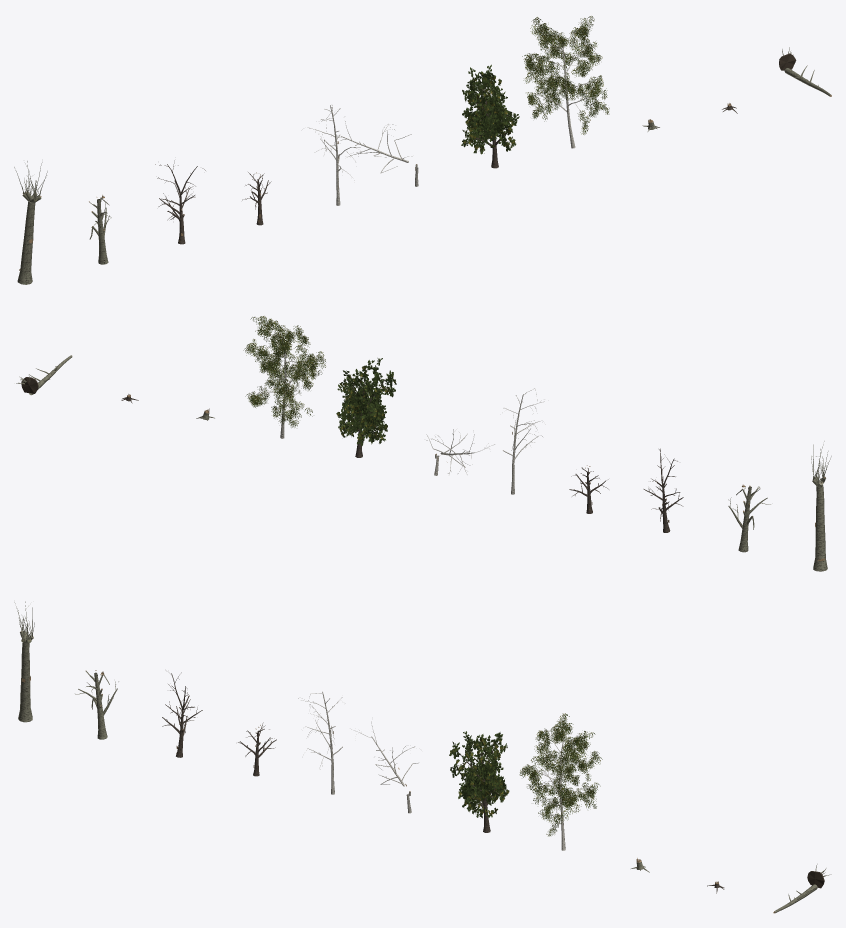
File: trees.glb
3 renders of one model, top to bottom at view 1: azimuth 30°, elevation 25°; view 2: azimuth 150°, elevation 25°; view 3: azimuth 330°, elevation 25°, orthographic.
Parts seen in each view (by area): view 1: leafy_summer_birch, leafy_summer_chestnut, tree_poplar_stripped, tree_chestnut_stripped, tree_poplar_broken, fallen_trunk, tree_birch_stripped, tree_birch_snapped; view 2: leafy_summer_birch, leafy_summer_chestnut, tree_poplar_stripped, tree_poplar_broken, tree_chestnut_stripped, tree_birch_stripped, fallen_trunk; view 3: leafy_summer_birch, leafy_summer_chestnut, tree_poplar_stripped, tree_poplar_broken, tree_chestnut_stripped.
Boxes of the visible parts, x1,y1,x2,y2 form: leafy_summer_birch: [522, 16, 609, 148]; leafy_summer_chestnut: [461, 64, 519, 168]; tree_poplar_stripped: [14, 161, 47, 284]; tree_chestnut_stripped: [155, 160, 205, 244]; tree_poplar_broken: [89, 195, 111, 264]; fallen_trunk: [779, 47, 831, 96]; tree_birch_stripped: [302, 105, 360, 205]; tree_birch_snapped: [331, 121, 418, 186]; leafy_summer_birch: [243, 316, 325, 438]; leafy_summer_chestnut: [336, 358, 396, 457]; tree_poplar_stripped: [811, 441, 831, 571]; tree_poplar_broken: [728, 484, 770, 552]; tree_chestnut_stripped: [643, 448, 683, 532]; tree_birch_stripped: [502, 388, 545, 494]; fallen_trunk: [16, 355, 72, 395]; leafy_summer_birch: [519, 713, 602, 850]; leafy_summer_chestnut: [449, 731, 509, 832]; tree_poplar_stripped: [14, 601, 34, 722]; tree_poplar_broken: [75, 670, 118, 739]; tree_chestnut_stripped: [162, 672, 202, 757].
Size of the model in its own units: 92.63 by 13.87 by 10.77.
6 materials, 6 textured.
